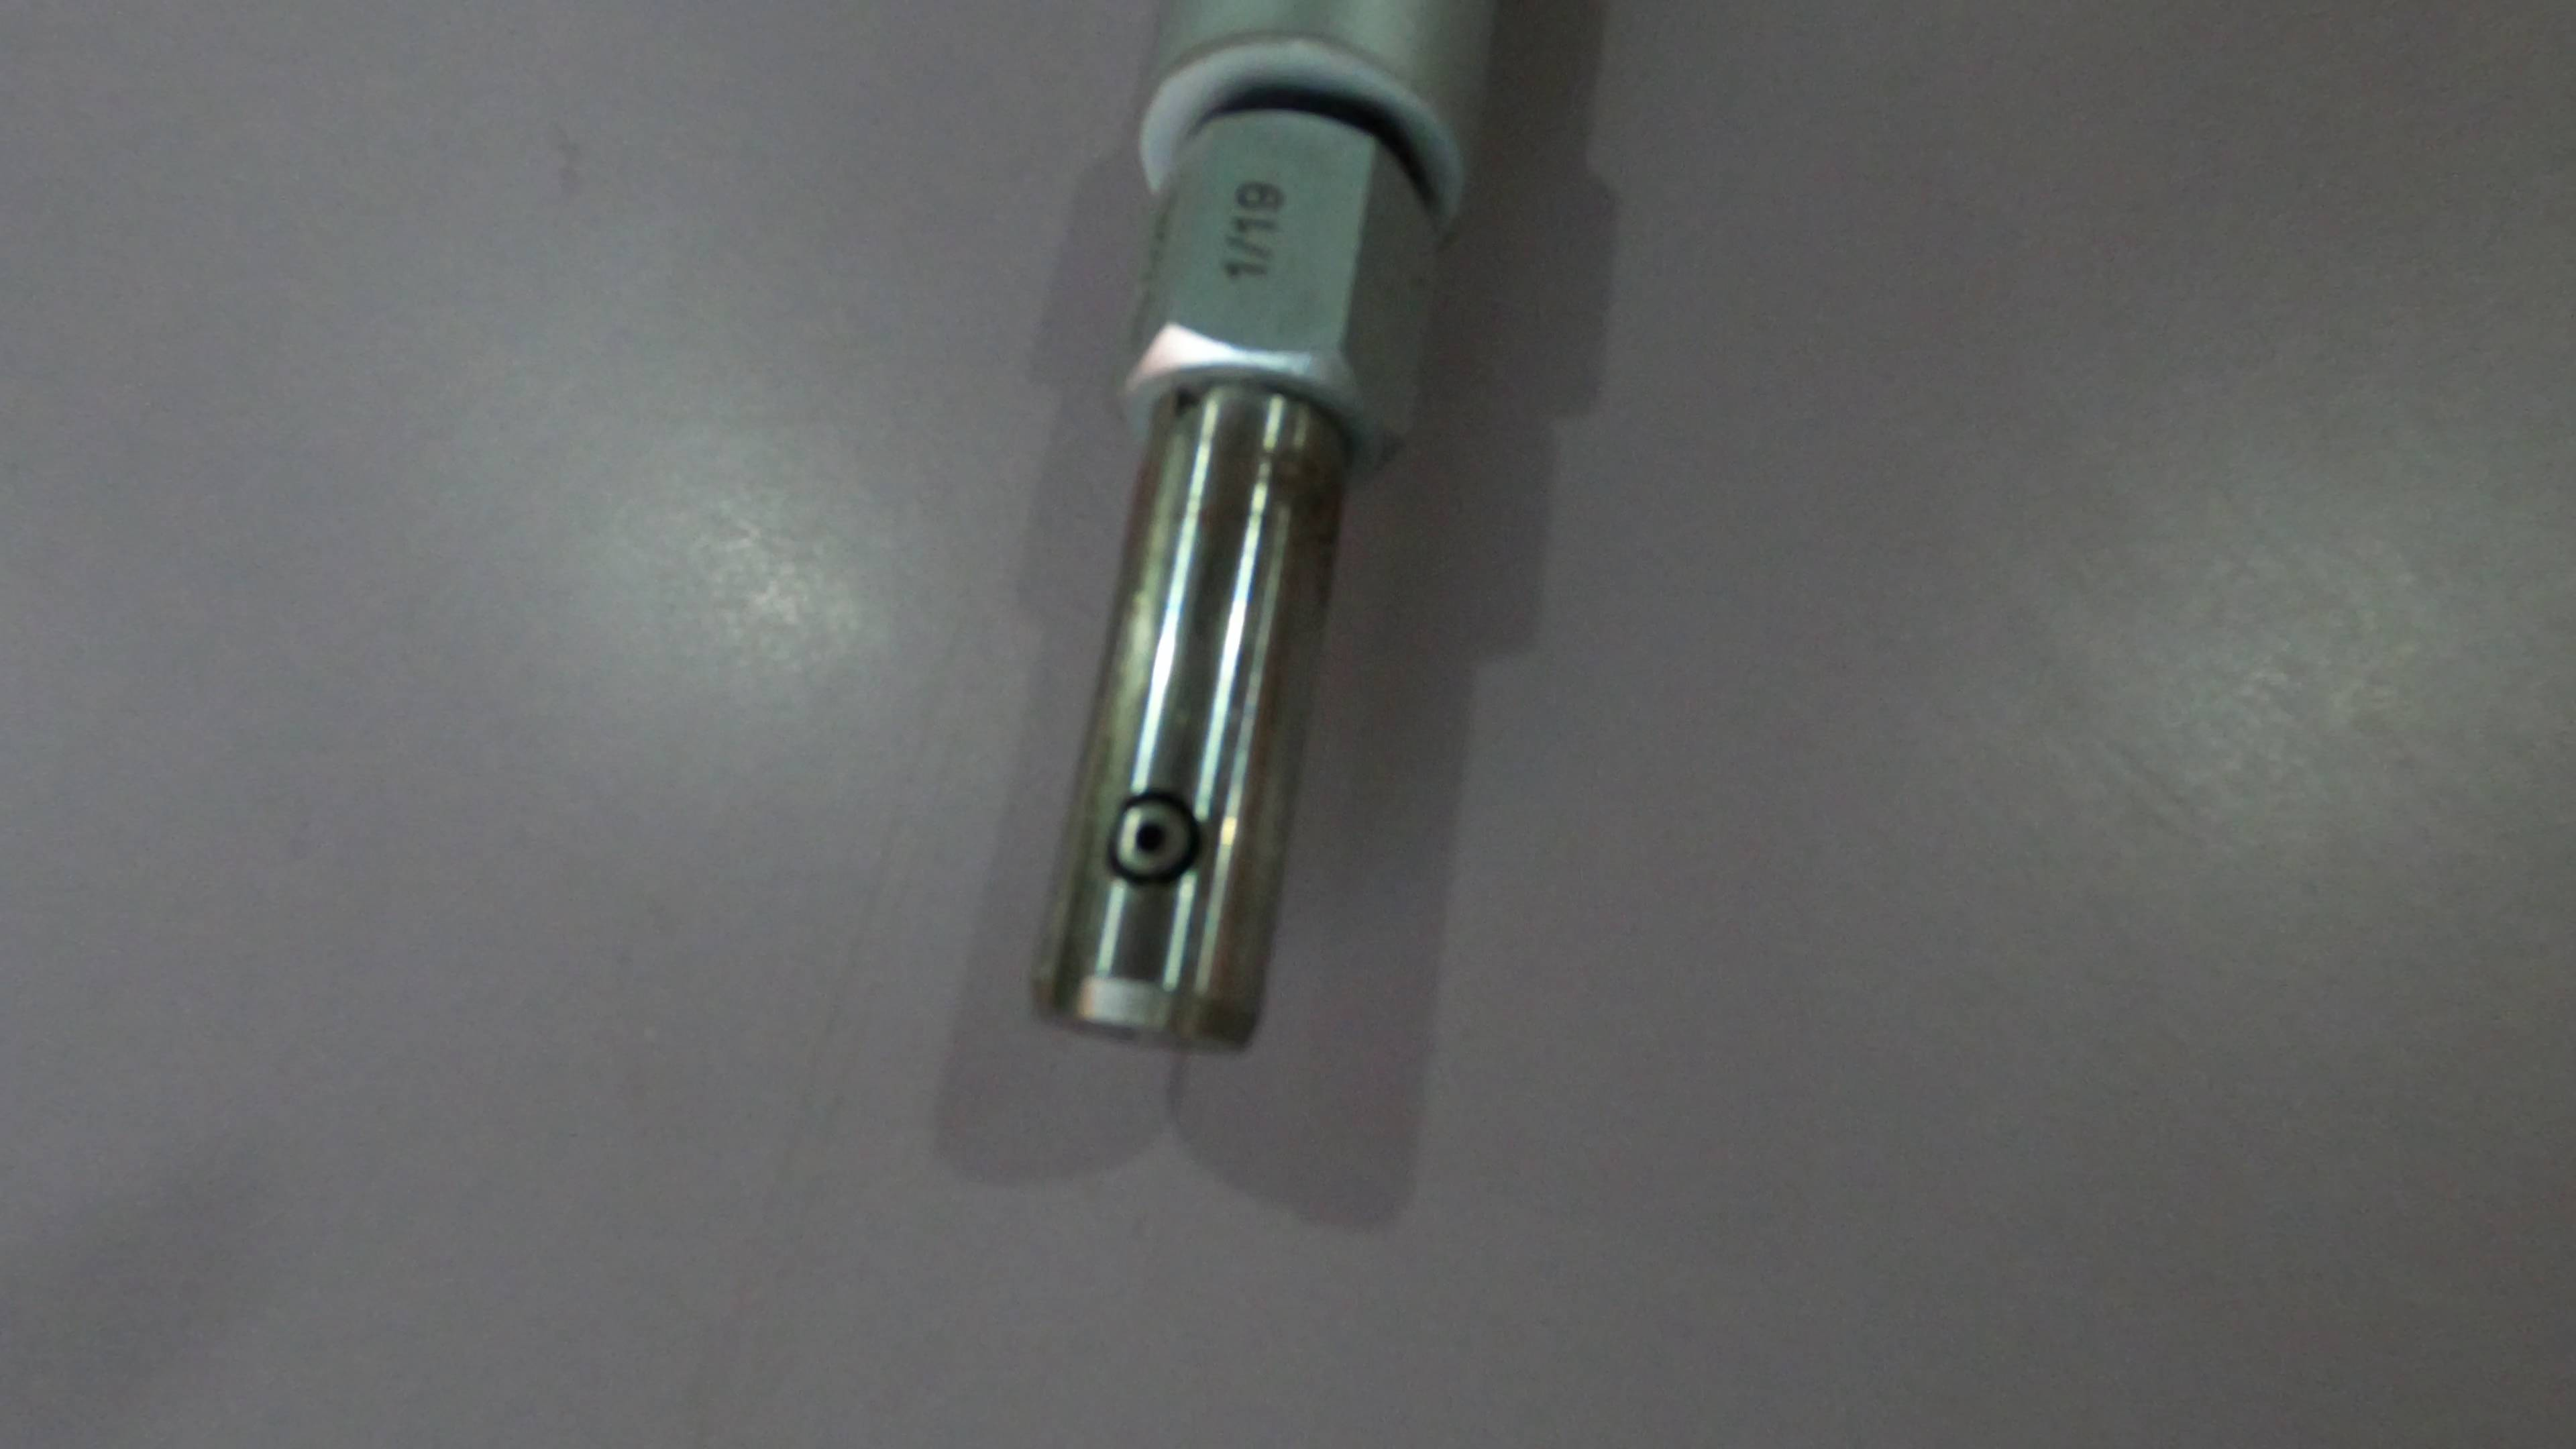air_gauge: (1014, 4, 1497, 1058)
